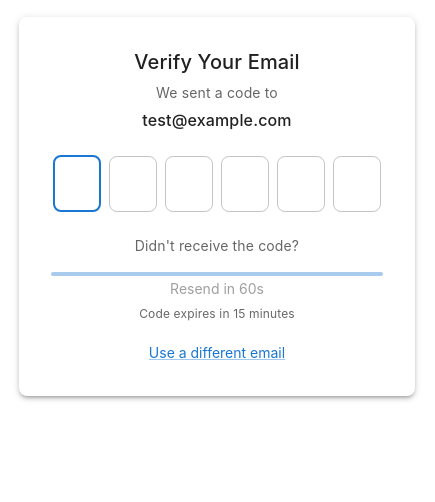
VerifyCode › shows error for invalid code
Type "0" into the field named "Digit 1" at (77, 184), box [53, 150, 101, 217]
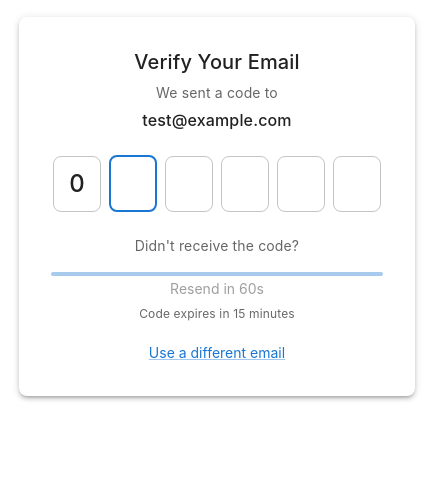
Type "0" into the field named "Digit 2" at (133, 184), box [109, 150, 157, 217]
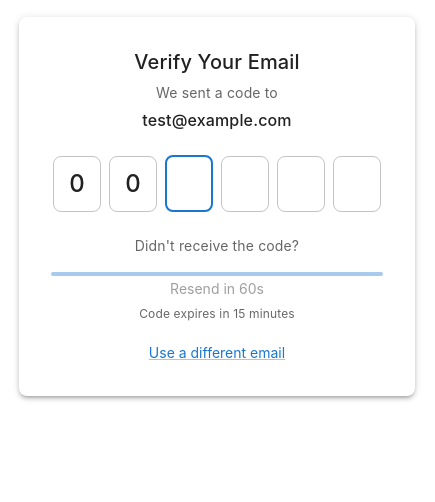
Type "0" into the field named "Digit 3" at (189, 184), box [165, 150, 213, 217]
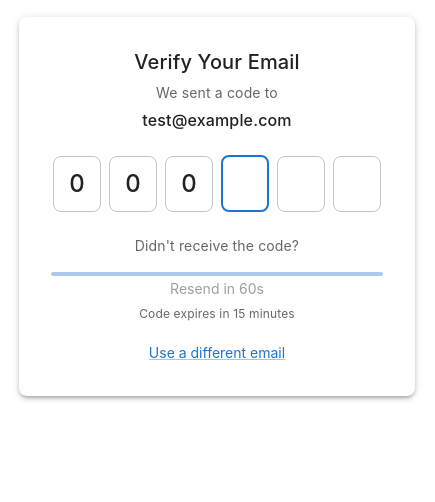
Type "0" into the field named "Digit 4" at (245, 184), box [221, 150, 269, 217]
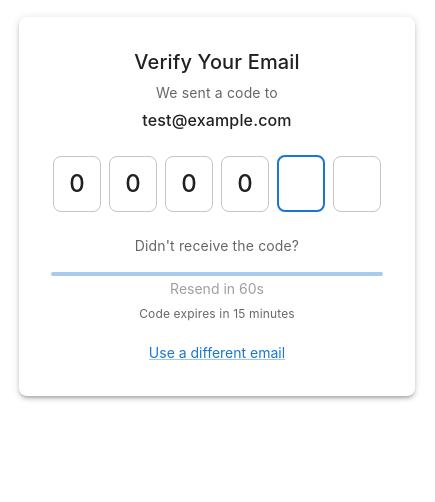
Type "0" into the field named "Digit 5" at (301, 184), box [277, 150, 325, 217]
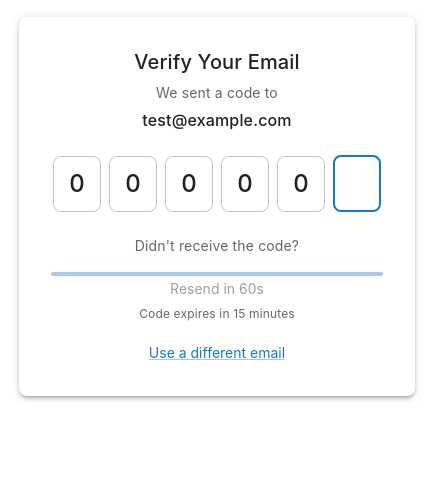
Type "0" into the field named "Digit 6" at (357, 184), box [333, 150, 381, 217]
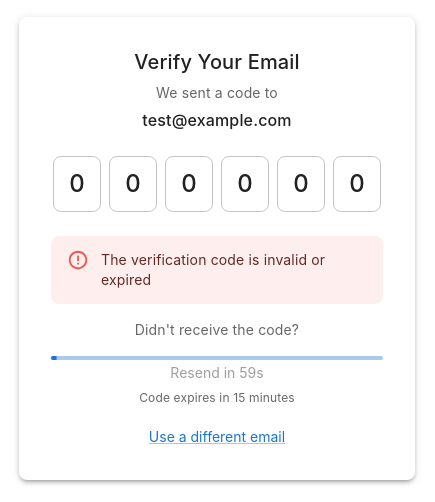
Expected: the text "The verification code is invalid or expired" is shown, [101, 251, 325, 288]
